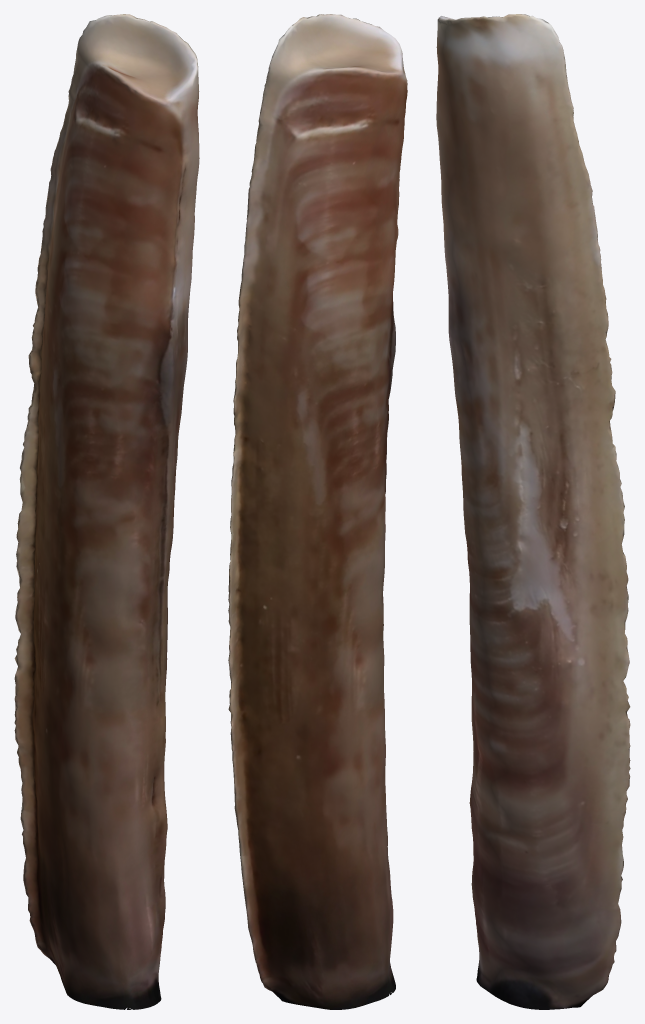
Rendered from Finger Nail Shell.glb.
The picture shows the model from 3 angles, left to right: view 1: azimuth 90°, elevation 25°; view 2: azimuth 150°, elevation 25°; view 3: azimuth 270°, elevation 25°; orthographic projection. The views are drawn at different scales.
Size of the model in its own units: 0.1058 by 0.7984 by 0.1405.
1 material, 1 textured.
